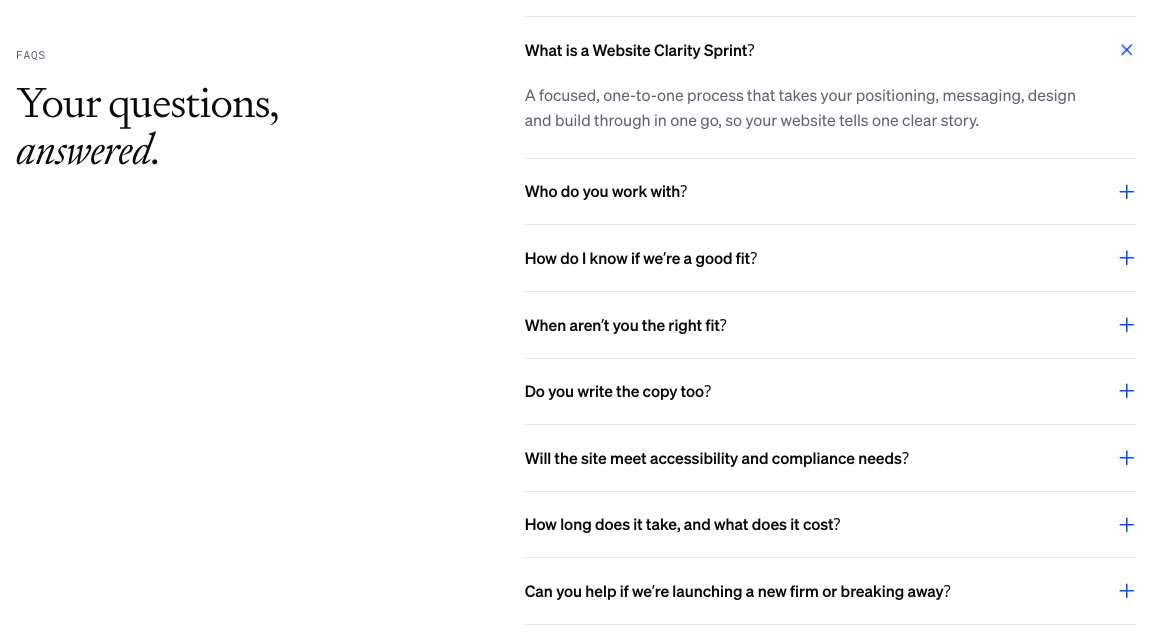
Faq › opens one answer at a time
Check: the text "A focused, one-to-one process that takes your positioning, messaging, design and build through in one go, so your websit" is shown, box x1=525 y1=84 x2=1076 y2=131
Click the button "Who do you work with?" at (606, 191), box x1=525 y1=159 x2=1136 y2=224
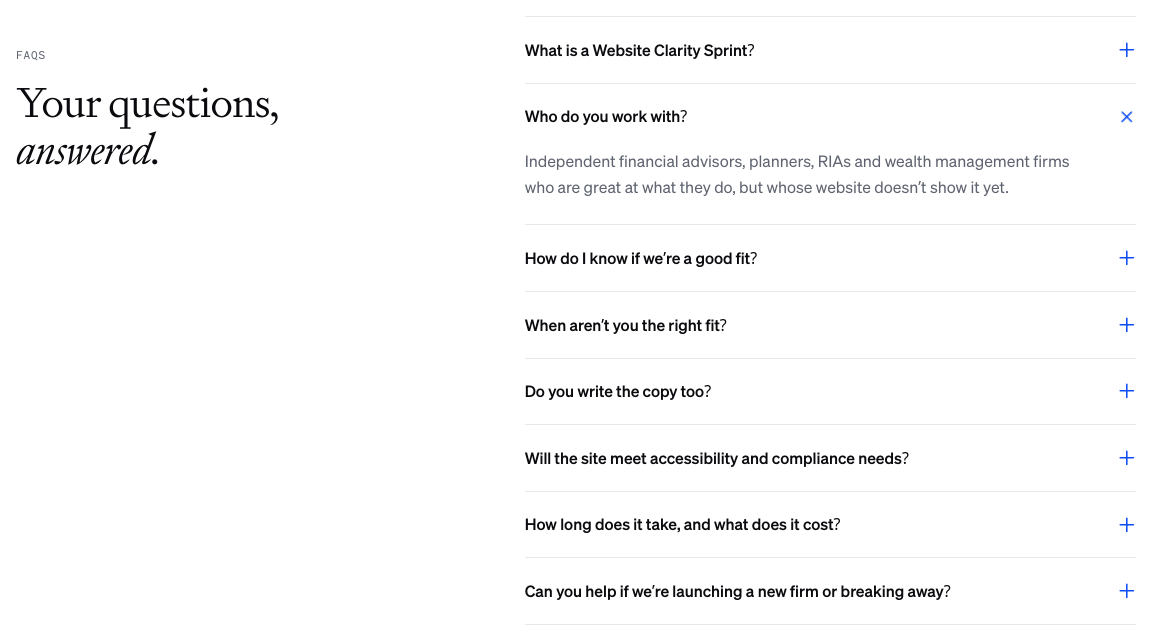
Check: the button "Who do you work with?" is expanded
Check: the button "What is a Website Clarity Sprint?" is collapsed, box x1=525 y1=17 x2=1136 y2=83
Check: the text "Independent financial advisors, planners, RIAs and wealth management firms who are great at what they do, but whose webs" is shown, box x1=525 y1=150 x2=1070 y2=198
Click the button "Who do you work with?" at (606, 116), box x1=525 y1=84 x2=1136 y2=149
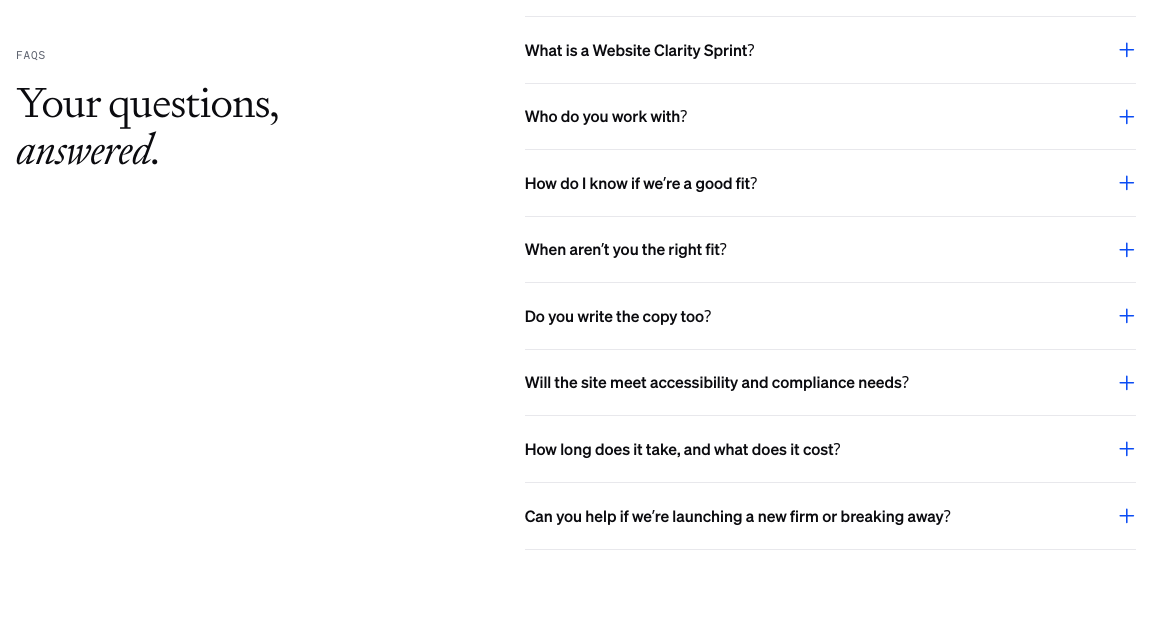
Check: the button "Who do you work with?" is collapsed, box x1=525 y1=84 x2=1136 y2=149
